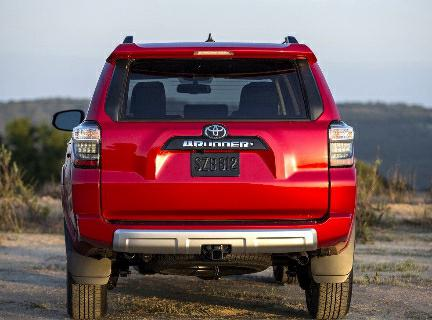丰田-4Runner: (47, 26, 368, 320)
